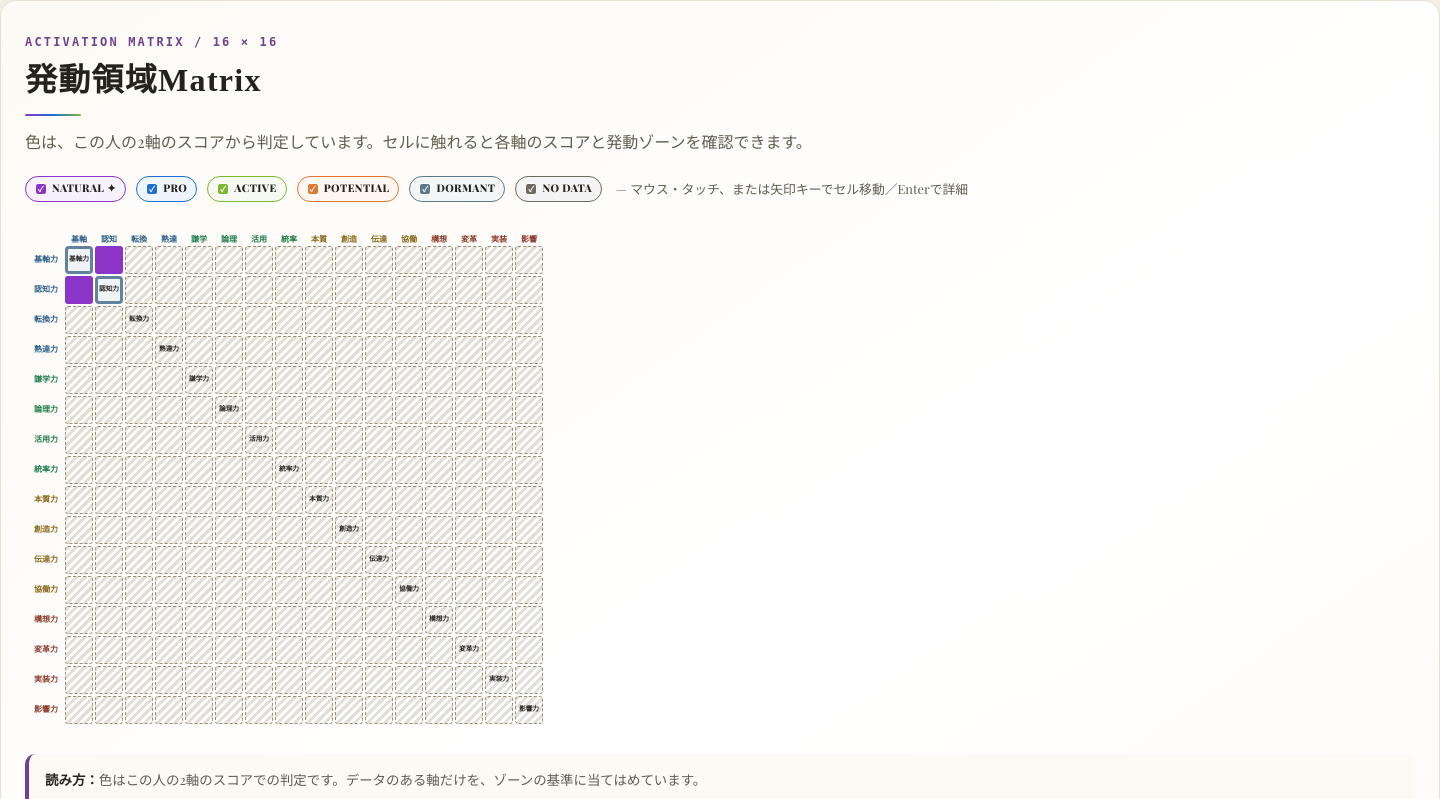
CompatMatrix › provides a 44px close control on pinned tooltips and restores the cell focus
The image size is (1440, 799).
Step 1. Click the picture "基軸力" → (79, 260), box [65,246,93,274]
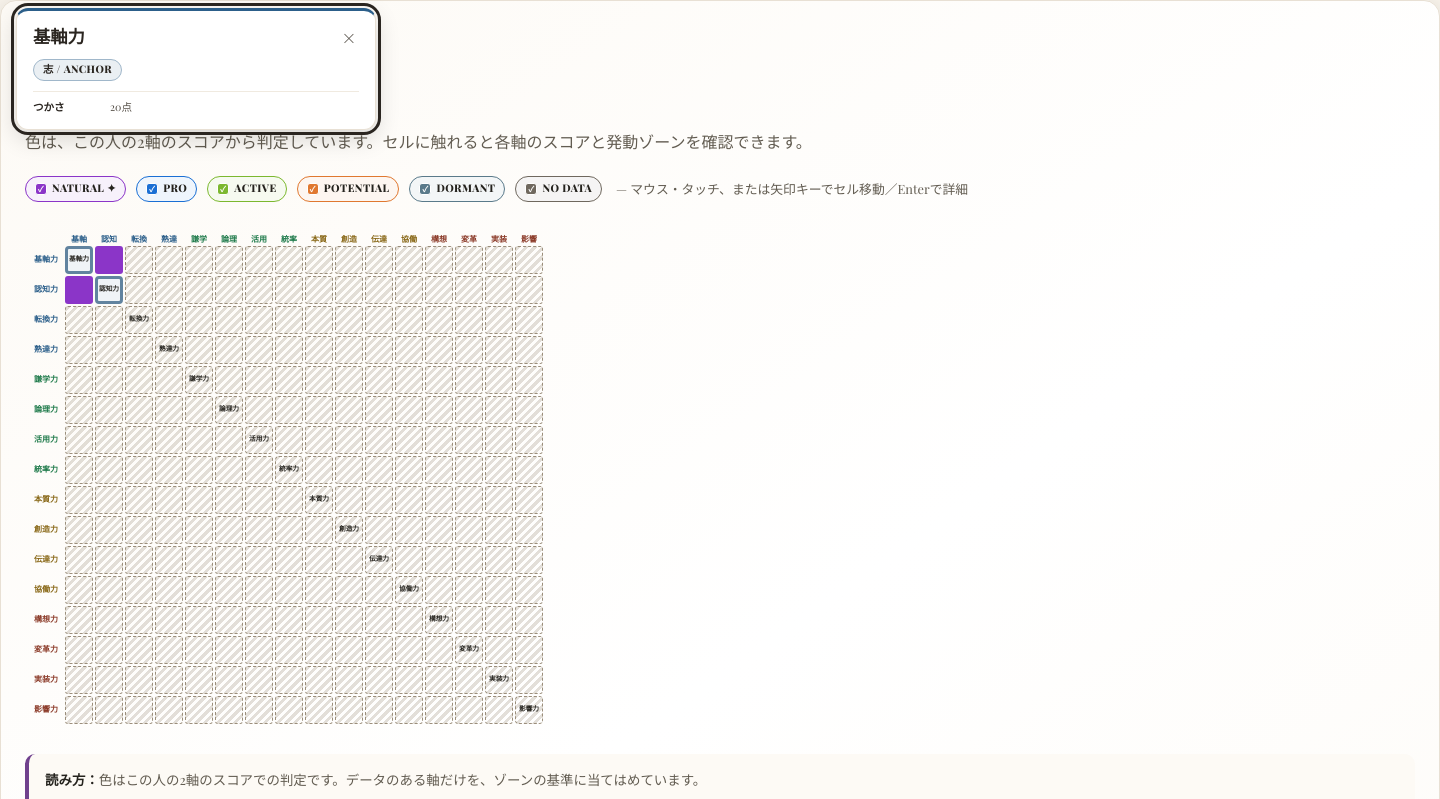
Step 2. Click the button named "ツールチップを閉じる" → (349, 37), box [327,15,371,59]
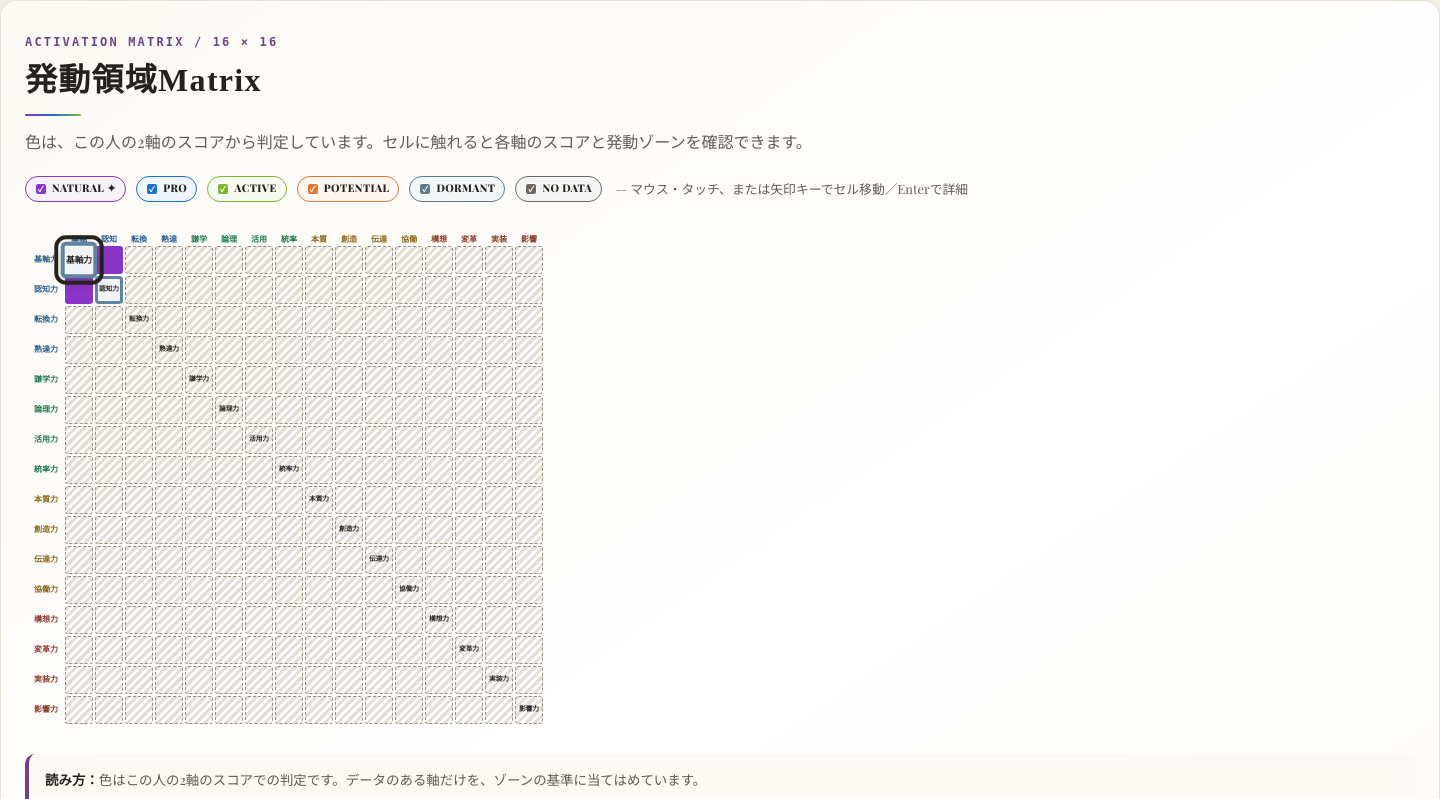
Check: the tooltip "× 基軸力 志 / ANCHOR つかさ 20点" is gone
